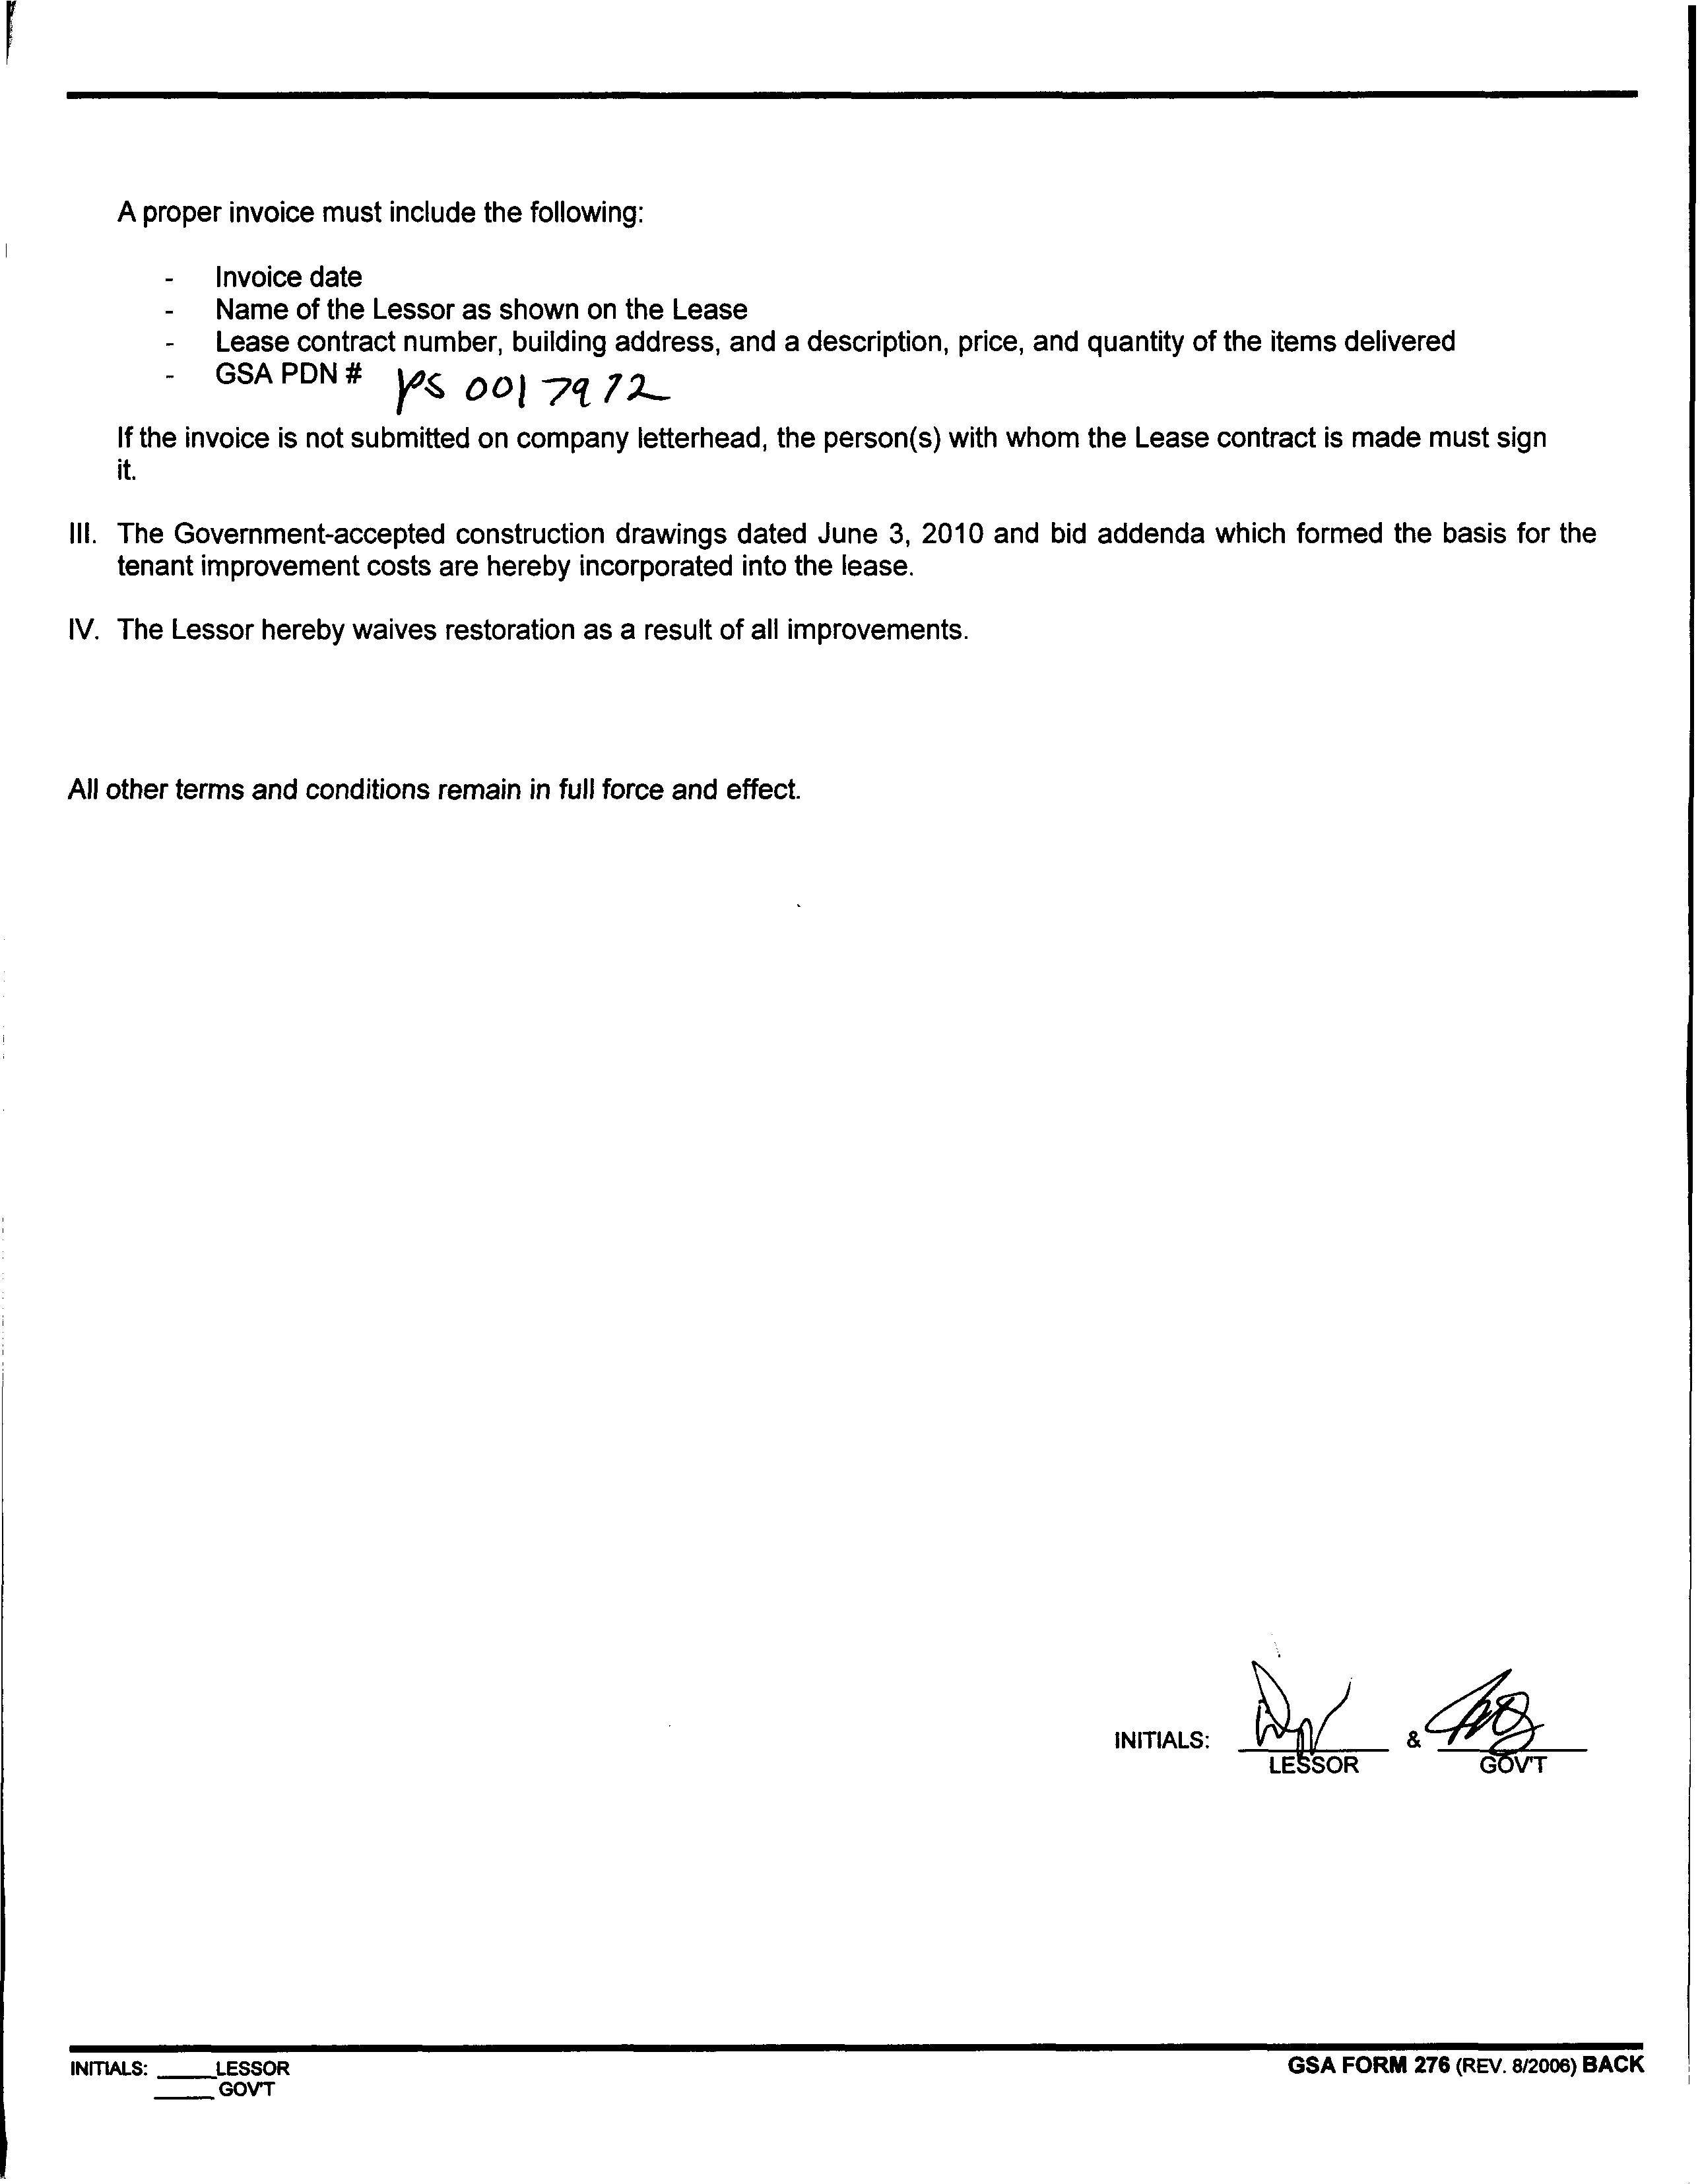handwritten: (388, 365, 681, 422), (1422, 1666, 1565, 1753), (1241, 1654, 1360, 1753)
